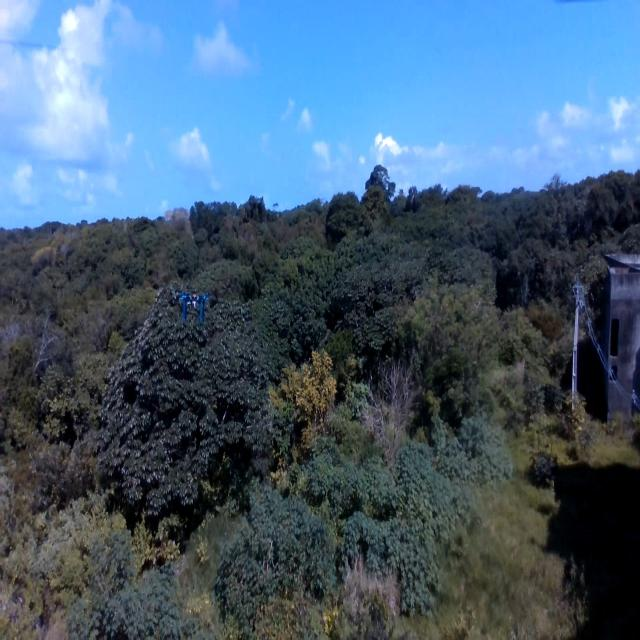-uav-: (172, 276, 216, 346)
